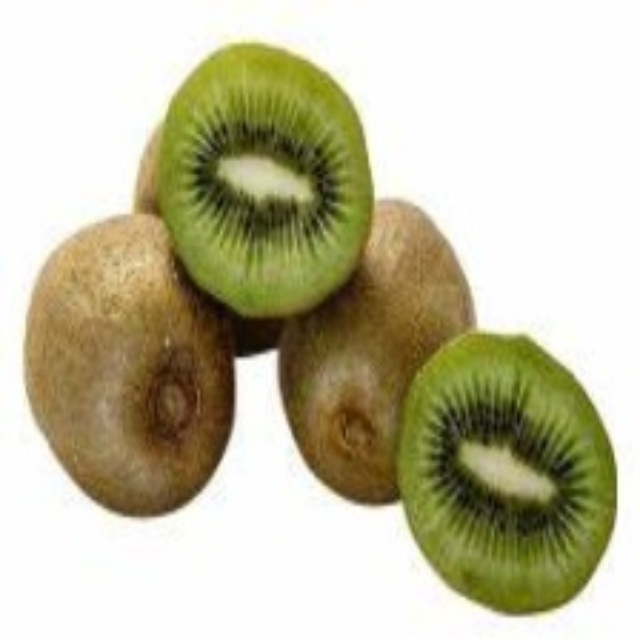kiwi: (400, 333, 621, 614), (277, 190, 468, 512), (27, 215, 219, 517), (151, 38, 355, 320)
